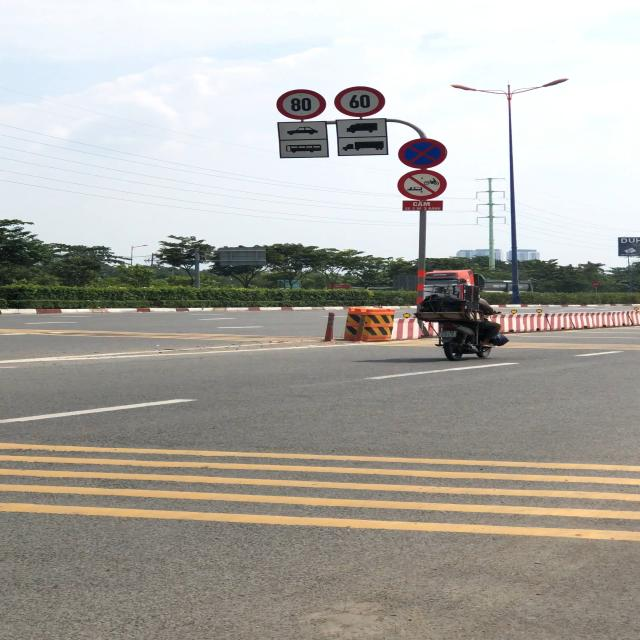Bien bao cam dung xe va do xe: (398, 138, 448, 169)
Bien bao toc do toi da cho phep: (333, 84, 388, 119), (275, 87, 328, 120)
